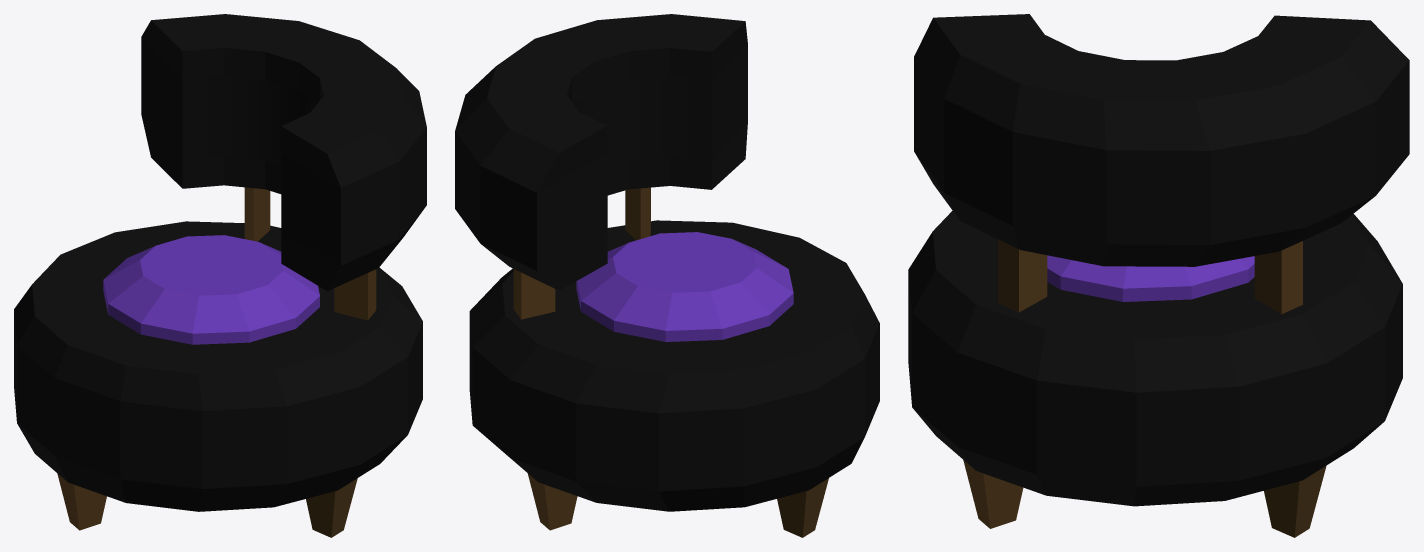
The model's file is tyreseatwback.fbx.
3 views of the same model, side by side, from view 1: azimuth 30°, elevation 25°; view 2: azimuth 150°, elevation 25°; view 3: azimuth 270°, elevation 25° (orthographic). The views are drawn at different scales.
Visible parts, largest first — view 1: tyre seat003, Cylinder011, Cylinder010; view 2: tyre seat003, Cylinder011, Cylinder010; view 3: tyre seat003, Cylinder011, Cylinder010.
Boxes of the visible parts, bbox=[...] form: tyre seat003: bbox=[14, 187, 422, 537]; Cylinder011: bbox=[141, 14, 426, 291]; Cylinder010: bbox=[103, 235, 319, 344]; tyre seat003: bbox=[469, 187, 879, 537]; Cylinder011: bbox=[455, 14, 747, 290]; Cylinder010: bbox=[576, 232, 793, 341]; tyre seat003: bbox=[908, 211, 1402, 537]; Cylinder011: bbox=[914, 14, 1409, 266]; Cylinder010: bbox=[1047, 255, 1254, 301].
Size of the model in its own units: 68.62 by 73.34 by 68.28.
